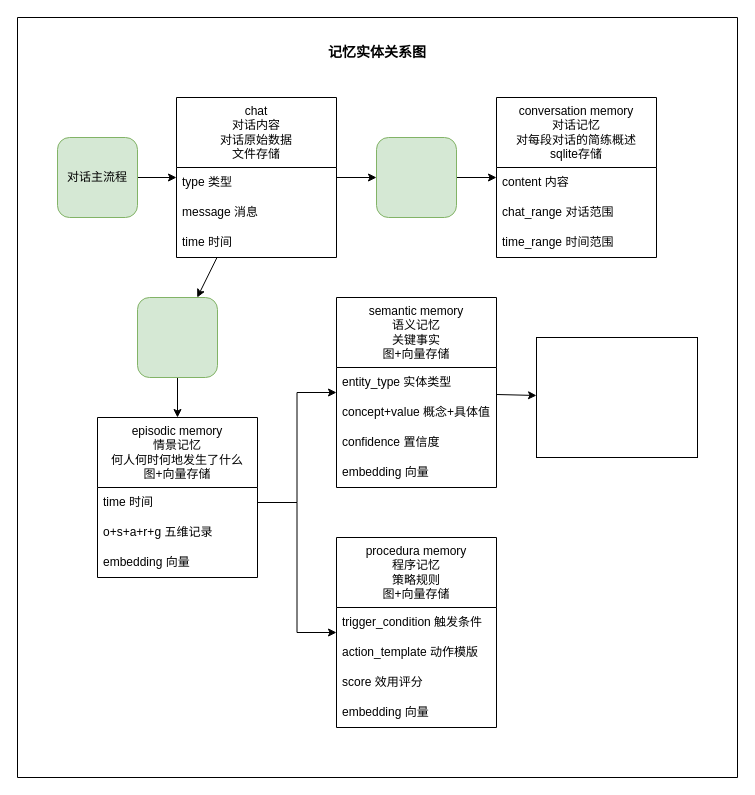
Image size: 755x795. Some labels were removed from this diagram. Each missing label, with the centre of its shape:
"core memory 核心记忆 定义用户画像、助手行为等 语义记忆中特定entity_type" belongs at (x=617, y=397).
"上下文压缩" belongs at (x=416, y=177).
"记忆构建" belongs at (x=177, y=337).
